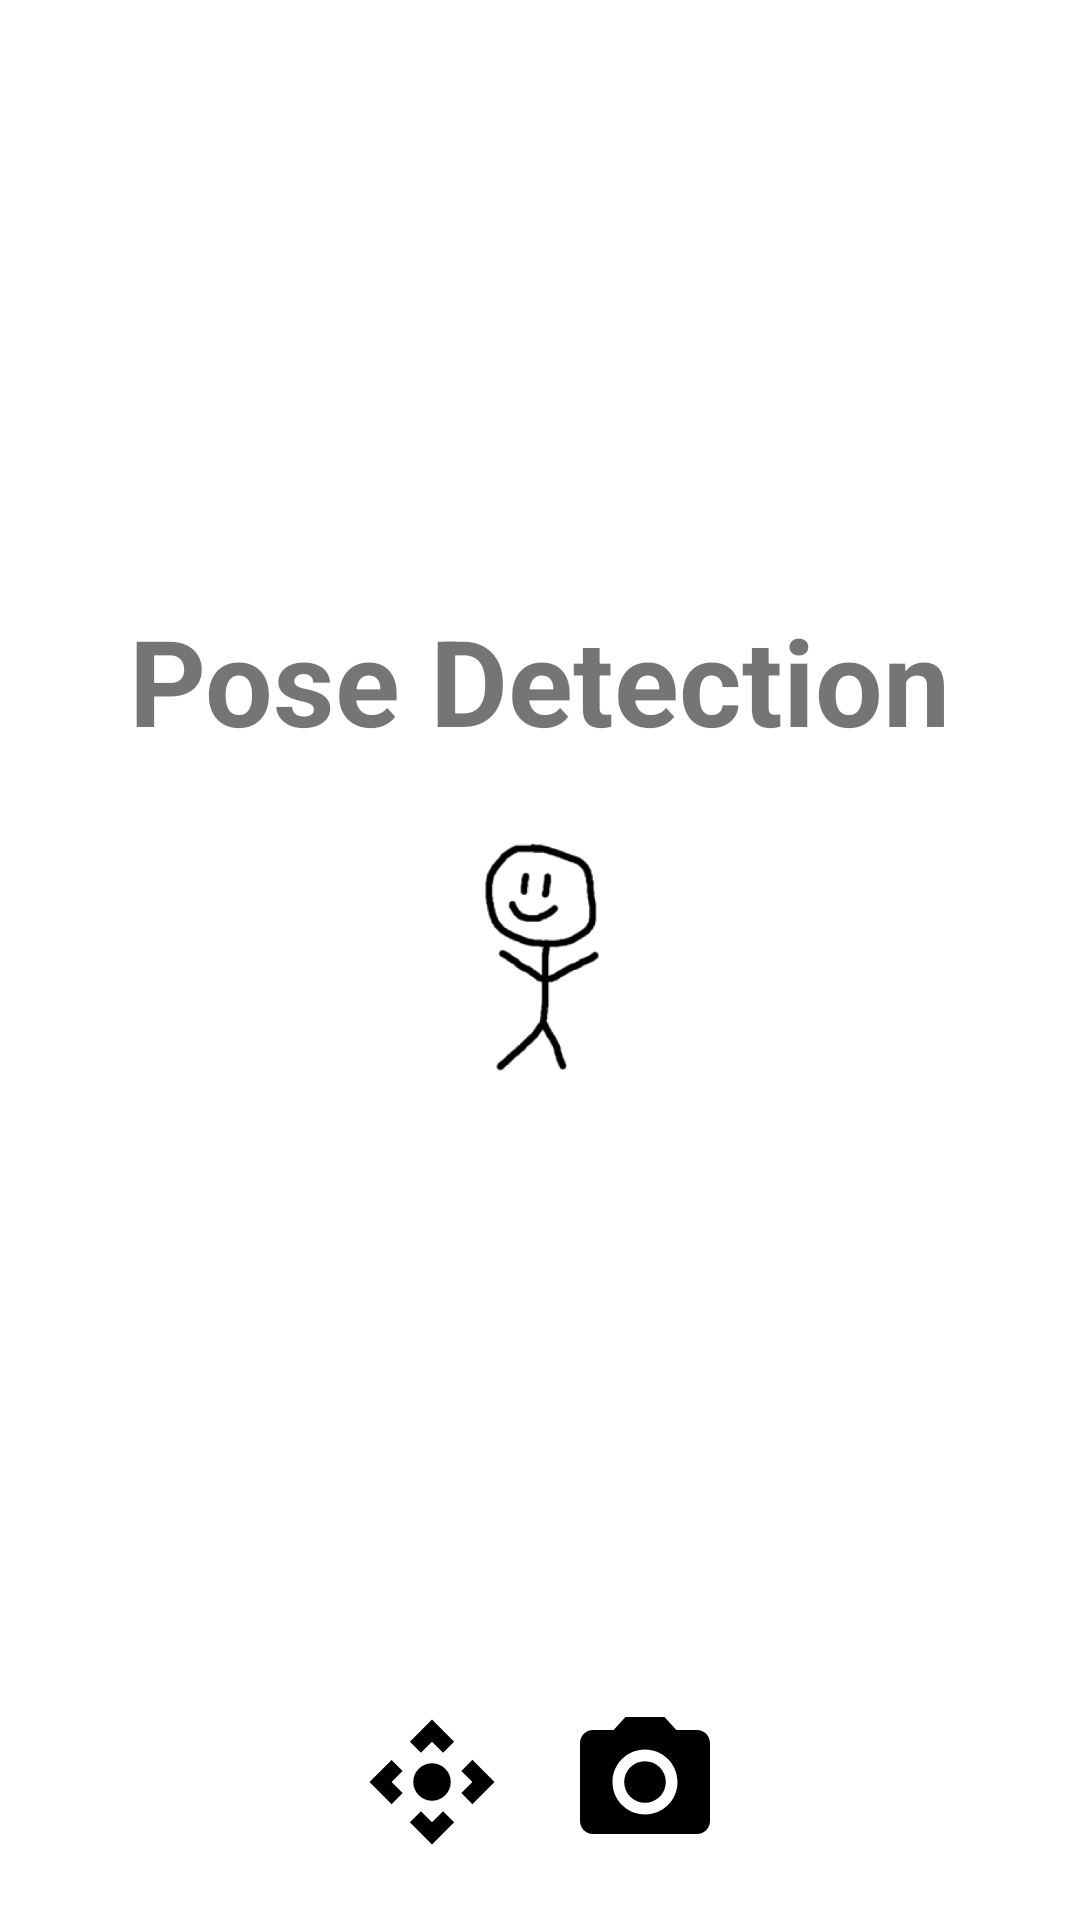

Where to tap for icons on this 1080w x 1920h app screen, as point (x, y):
camera: point (645, 1775)
control camera: point (432, 1782)
stick person: point (542, 957)
